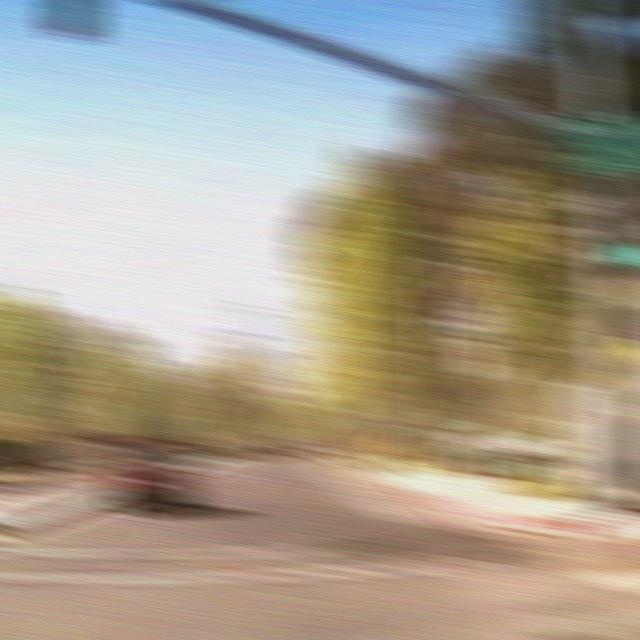speedLimit40: (452, 300, 497, 349)
